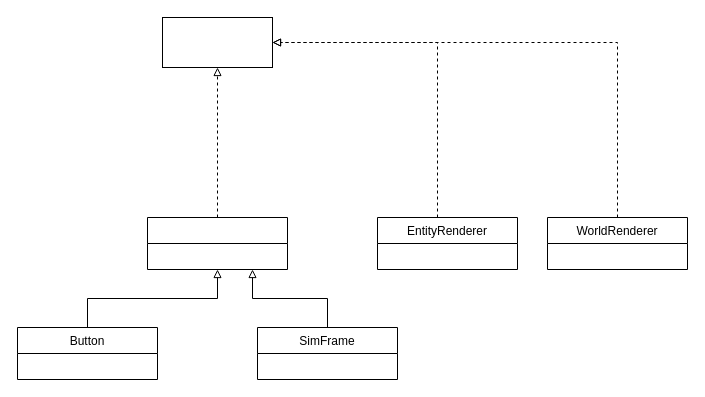
Image size: 705x397. Some labels were removed from this diagram. The shapes that lost their labels are listed below. From the top down, each one's centre as x and y in pixels, then its label:
At (217,42): "«interface» IRenderer".
At (217,243): "UIElement".
